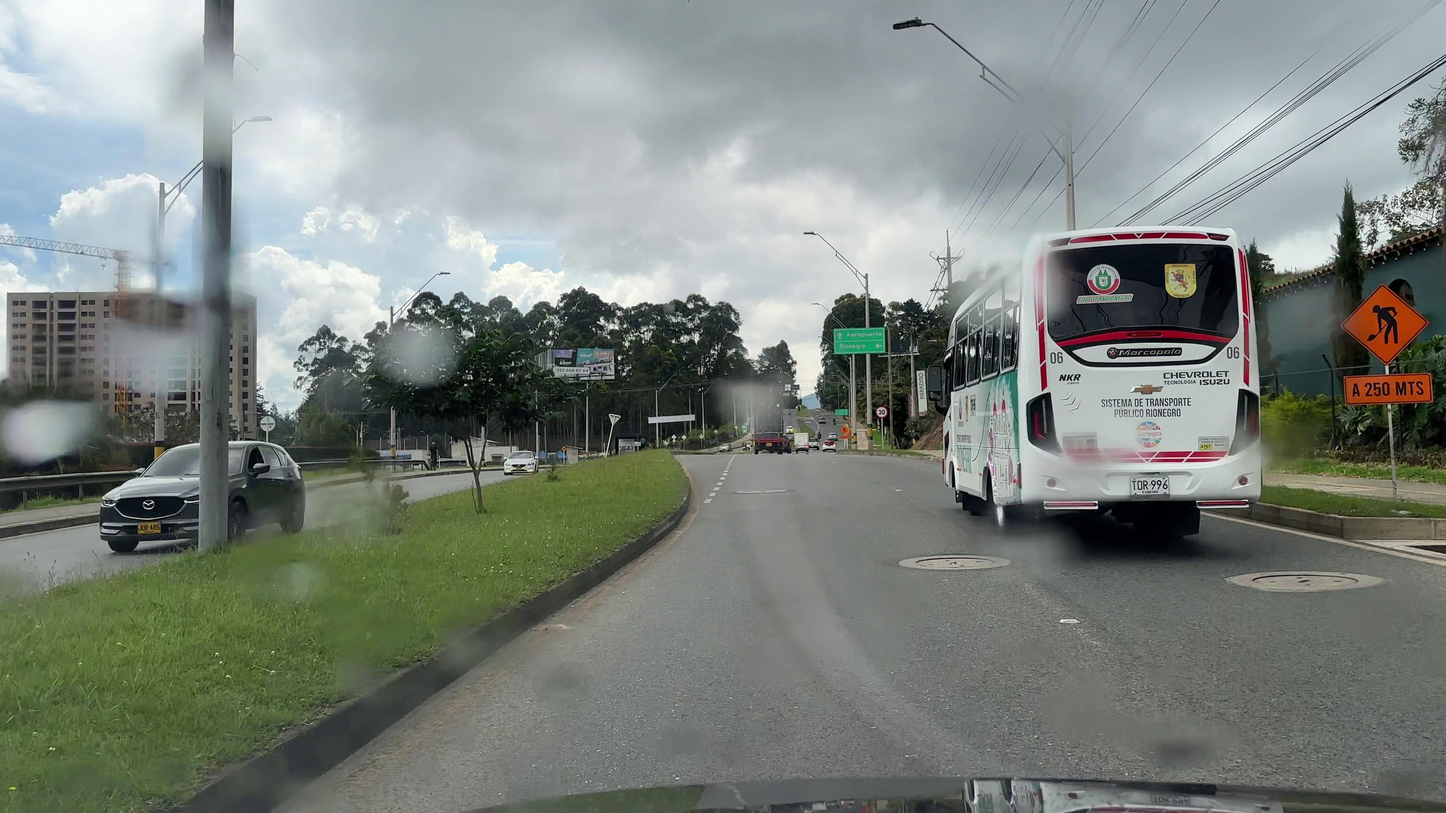registro: (1253, 574, 1358, 586), (916, 557, 995, 568)
rejilla: (1403, 545, 1446, 555)
